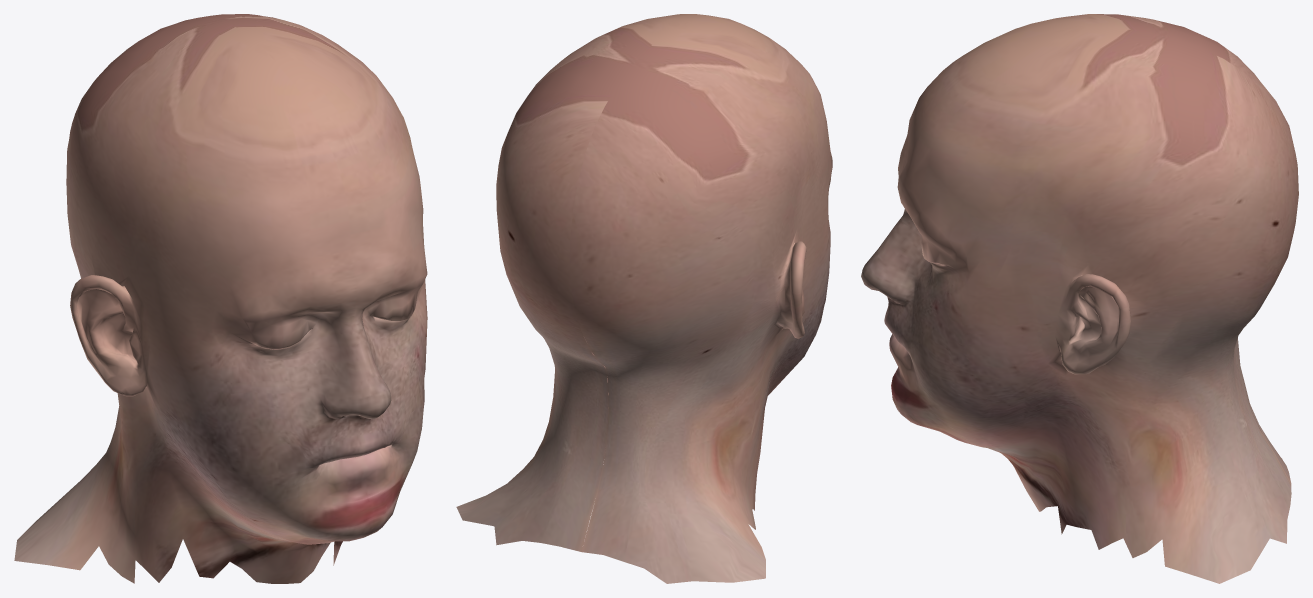
The model's file is stranger_head.glb.
3 views of the same model, side by side, from view 1: azimuth 30°, elevation 25°; view 2: azimuth 150°, elevation 25°; view 3: azimuth 270°, elevation 25° (orthographic). The views are drawn at different scales.
Visible parts, largest first — view 1: LeePerrySmith; view 2: LeePerrySmith; view 3: LeePerrySmith.
Boxes of the visible parts, box(x1,y1,x2,y2) form: LeePerrySmith: box(14, 14, 427, 583); LeePerrySmith: box(456, 14, 832, 583); LeePerrySmith: box(861, 14, 1298, 583).
Size of the model in its own units: 0.1715 by 0.25 by 0.2067.
Materials: 1 (1 with a texture image).
